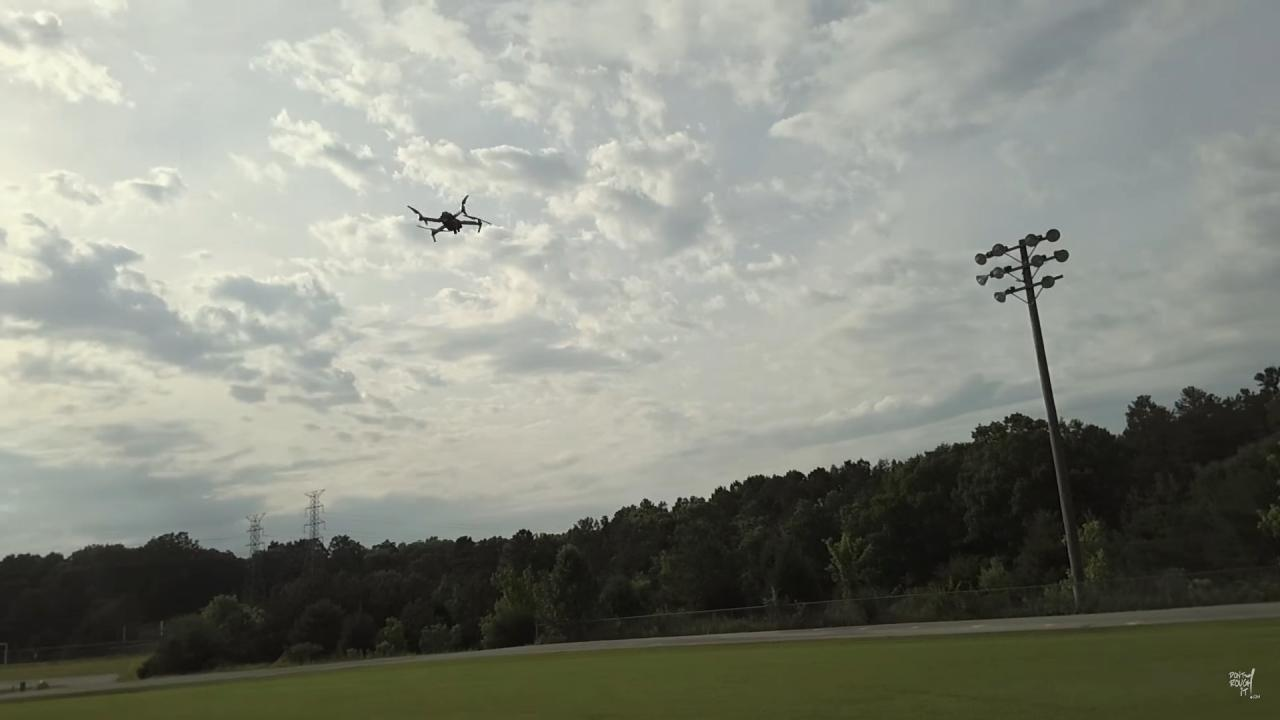Drone: (396, 184, 504, 252)
